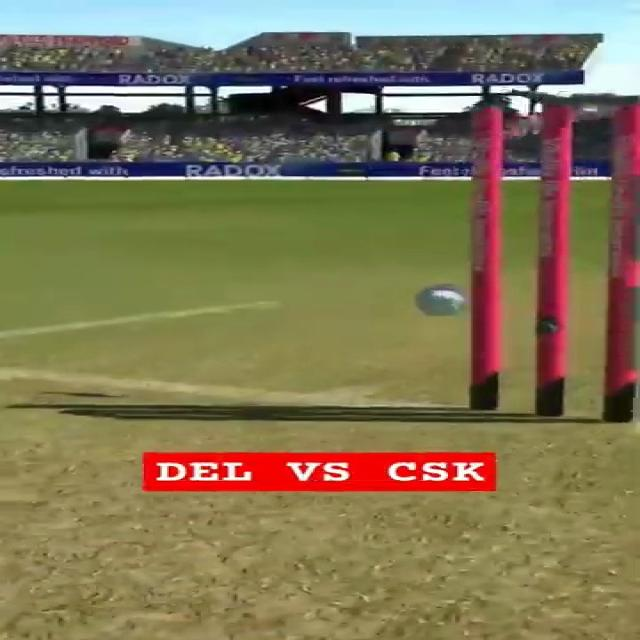ball: (412, 281, 466, 315)
